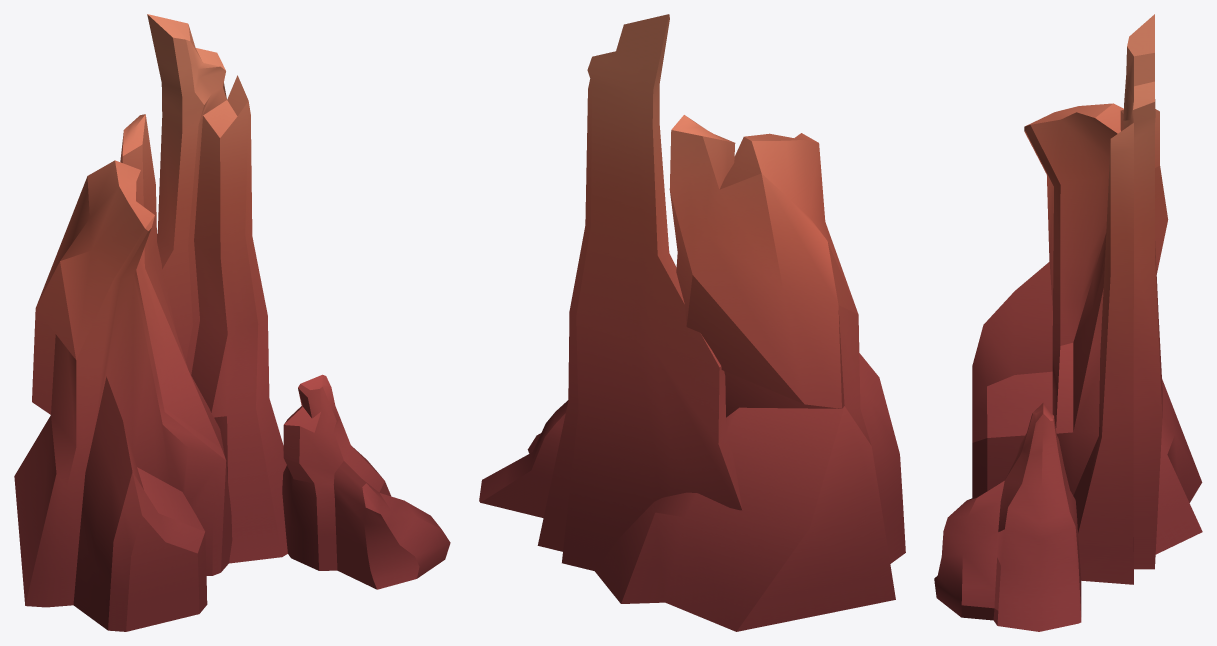
File: Cliffs_V06.fbx
3 views of the same model, side by side, from view 1: azimuth 30°, elevation 25°; view 2: azimuth 150°, elevation 25°; view 3: azimuth 270°, elevation 25° (orthographic). The views are drawn at different scales.
Visible parts, largest first — view 1: SM_Cliff_V06_C01_01; view 2: SM_Cliff_V06_C01_01; view 3: SM_Cliff_V06_C01_01.
Part boxes in pixels (x1,y1,x2,y2): SM_Cliff_V06_C01_01: (14,14,450,631); SM_Cliff_V06_C01_01: (479,14,905,631); SM_Cliff_V06_C01_01: (934,14,1202,631).
Size of the model in its own units: 850 by 1078 by 516.
